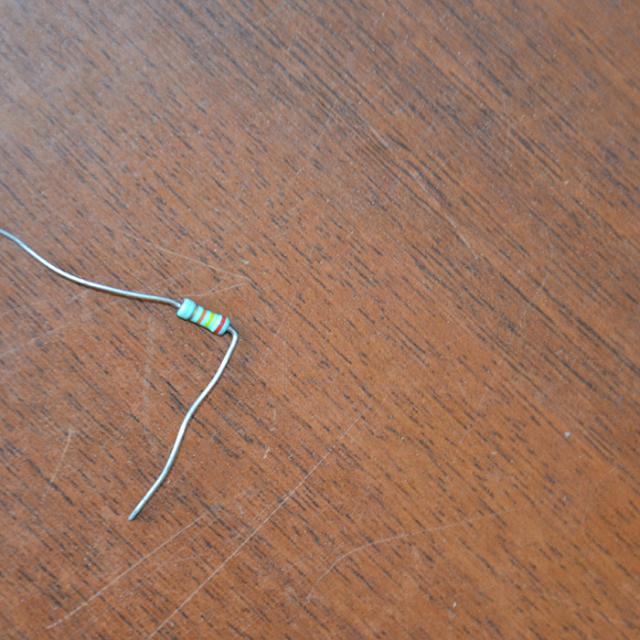gold: (187, 305, 199, 321)
orange: (197, 309, 207, 324)
red: (213, 317, 225, 335)
resistor: (166, 287, 243, 346)
yellow: (204, 313, 216, 328)
